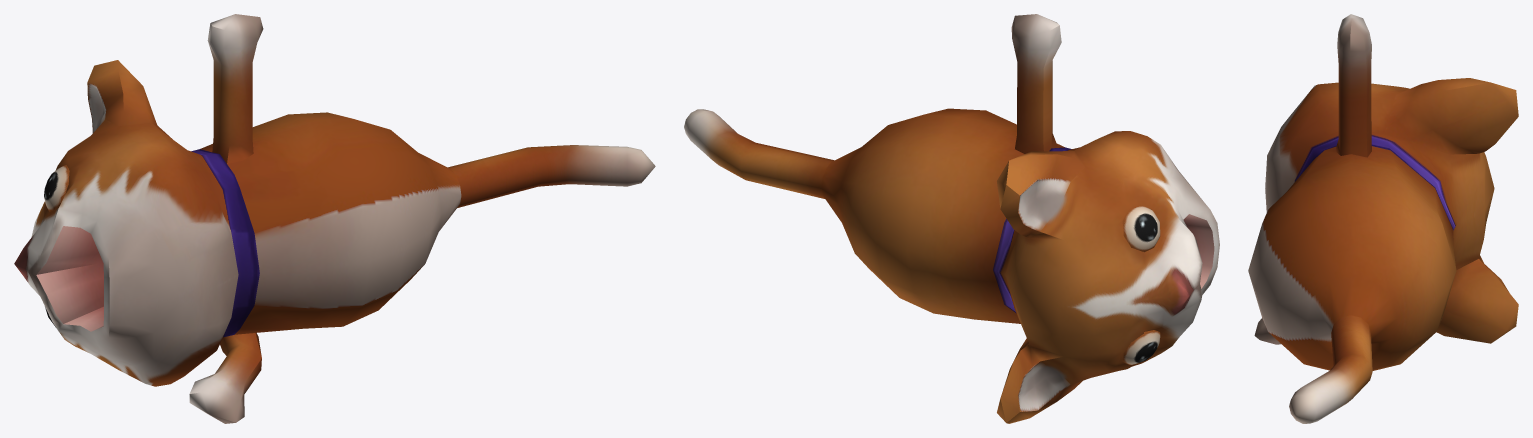
File: sn_shp010.fbx
3 renders of one model, left to right at view 1: azimuth 30°, elevation 25°; view 2: azimuth 150°, elevation 25°; view 3: azimuth 270°, elevation 25°, orthographic. The views are drawn at different scales.
Parts seen in each view (by area): view 1: sn_shp010; view 2: sn_shp010; view 3: sn_shp010.
Boxes of the visible parts, <box> form: sn_shp010: <box>14,14,655,423</box>; sn_shp010: <box>684,14,1219,423</box>; sn_shp010: <box>1248,14,1518,423</box>.
Size of the model in its own units: 1.17 by 0.7001 by 0.4961.
1 material, 1 textured.
